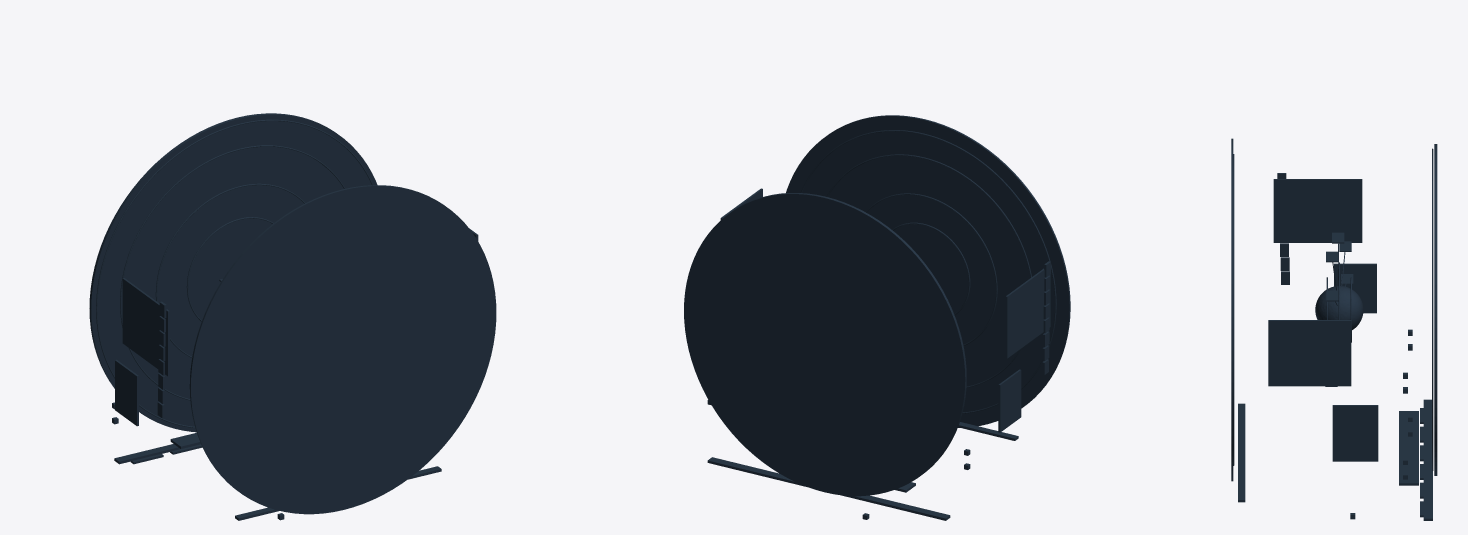
The model's file is 02_ai_core_chamber.glb.
3 views of the same model, side by side, from view 1: azimuth 30°, elevation 25°; view 2: azimuth 150°, elevation 25°; view 3: azimuth 270°, elevation 25° (orthographic). The views are drawn at different scales.
Visible parts, largest first — view 1: 02_ai_core_chamber__circular_command_floor_black_chrome; view 2: 02_ai_core_chamber__circular_command_floor_black_chrome; view 3: 02_ai_core_chamber__circular_command_floor_black_chrome.
Boxes of the visible parts, left/top/right/bottom form: 02_ai_core_chamber__circular_command_floor_black_chrome: left=89, top=113, right=496, bottom=520; 02_ai_core_chamber__circular_command_floor_black_chrome: left=684, top=115, right=1070, bottom=520; 02_ai_core_chamber__circular_command_floor_black_chrome: left=1231, top=138, right=1437, bottom=520.
Size of the model in its own units: 18 by 16.59 by 10.13.
